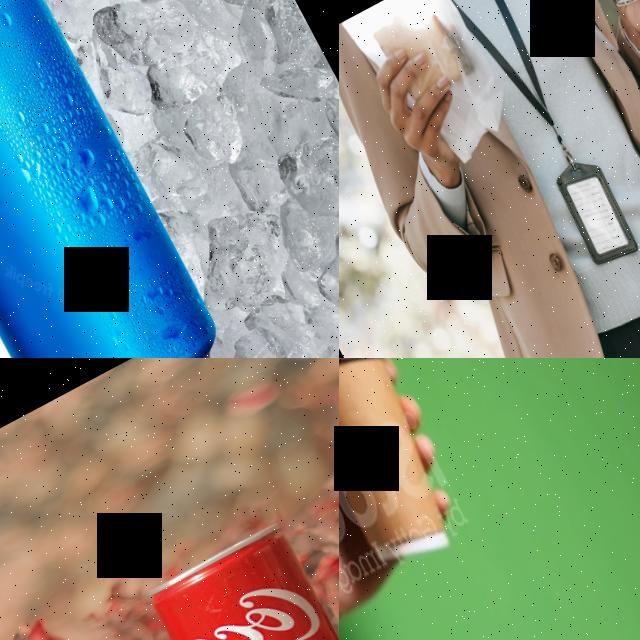can: (0, 0, 247, 358), (141, 516, 339, 640)
cup: (339, 358, 481, 585)
